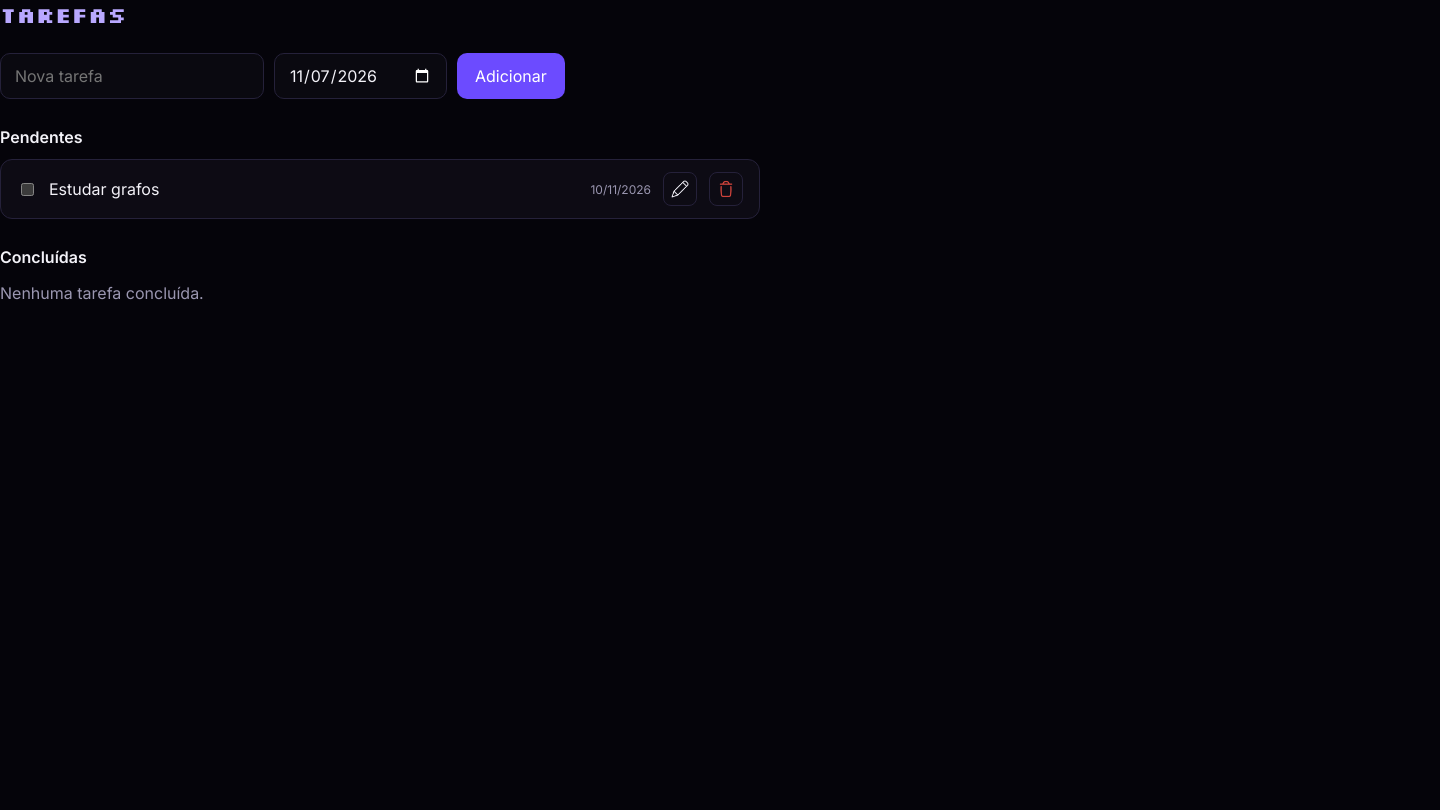
Scenario: TasksPage › exclui só depois da confirmação
Expected: the text "Estudar grafos" is shown, [49, 179, 159, 199]
Click the button named "Excluir Estudar grafos": [726, 189] box [709, 172, 743, 206]
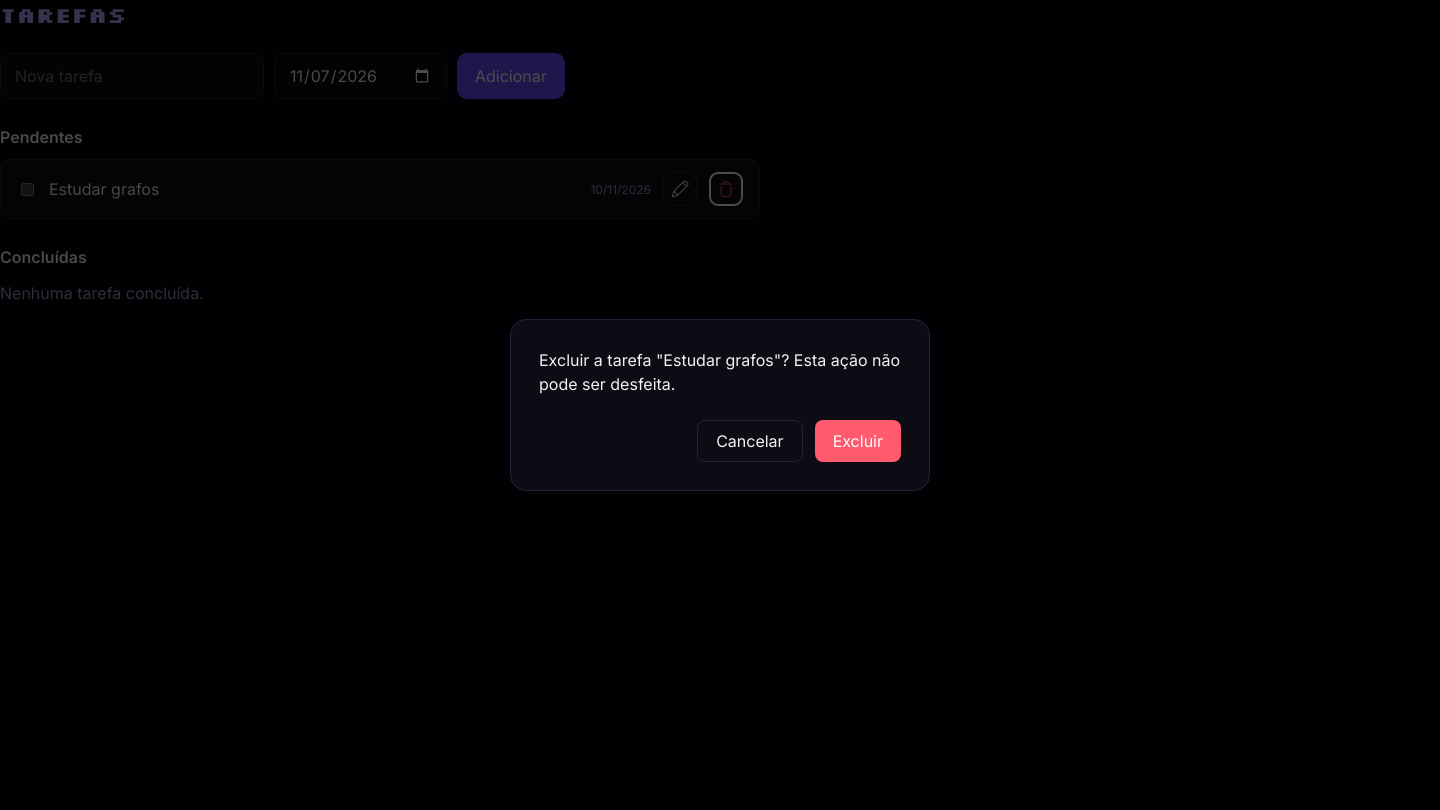
Click the button "Excluir": [858, 441] box [815, 420, 901, 462]
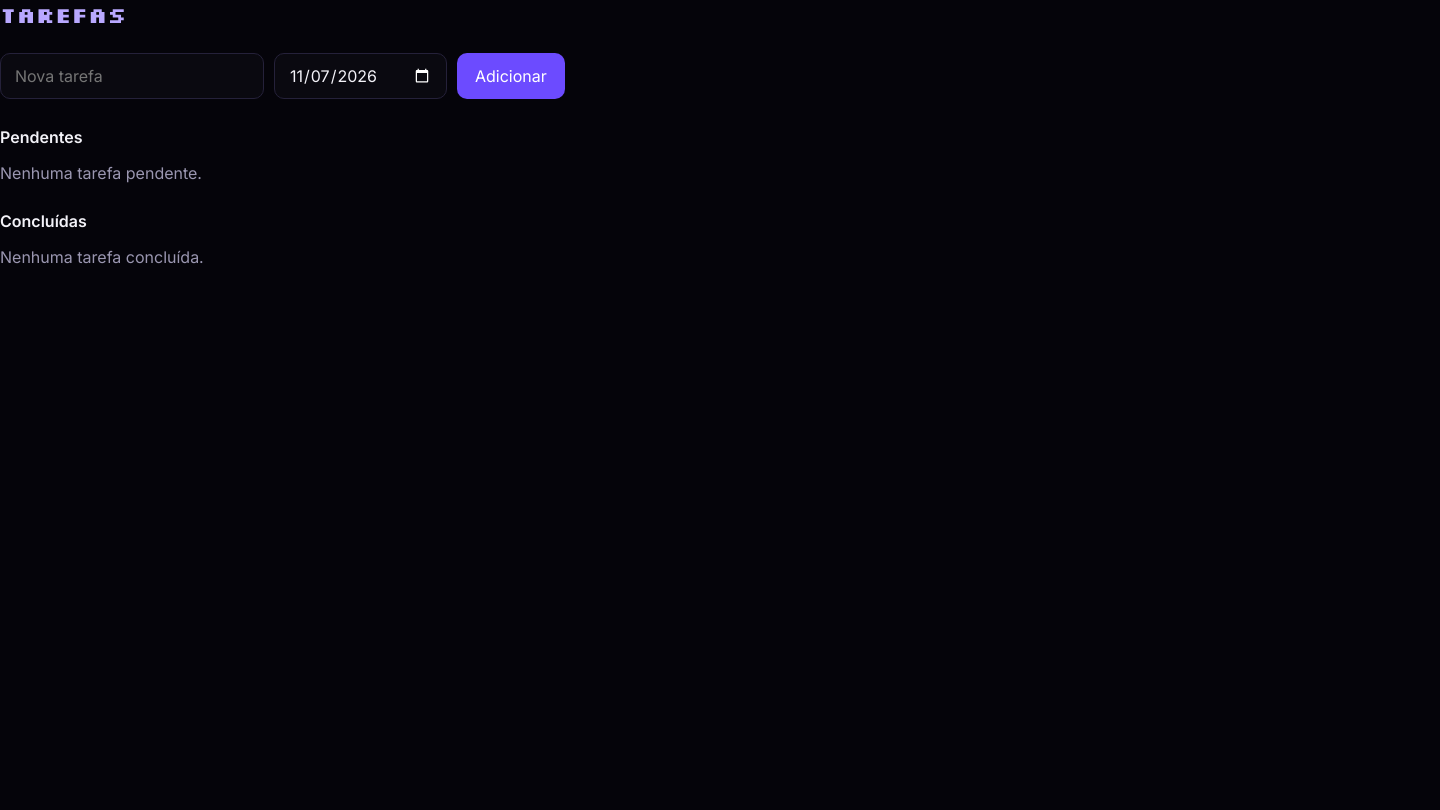
Expected: the text "Estudar grafos" is gone
